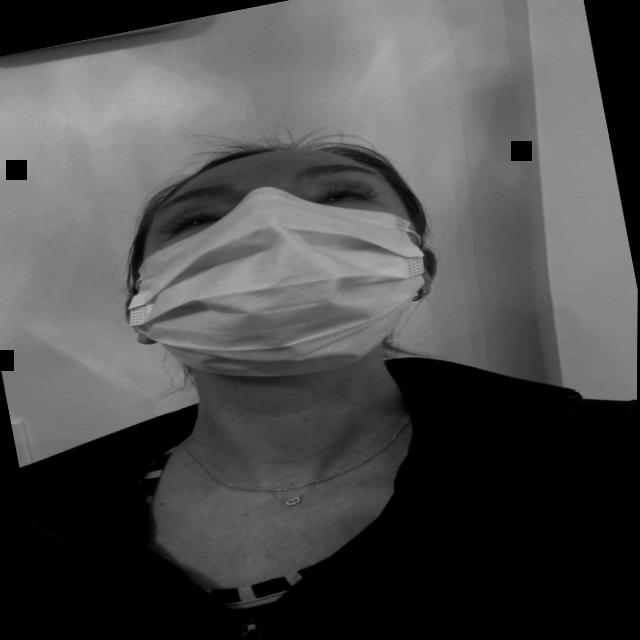Mask: (77, 113, 465, 437)
